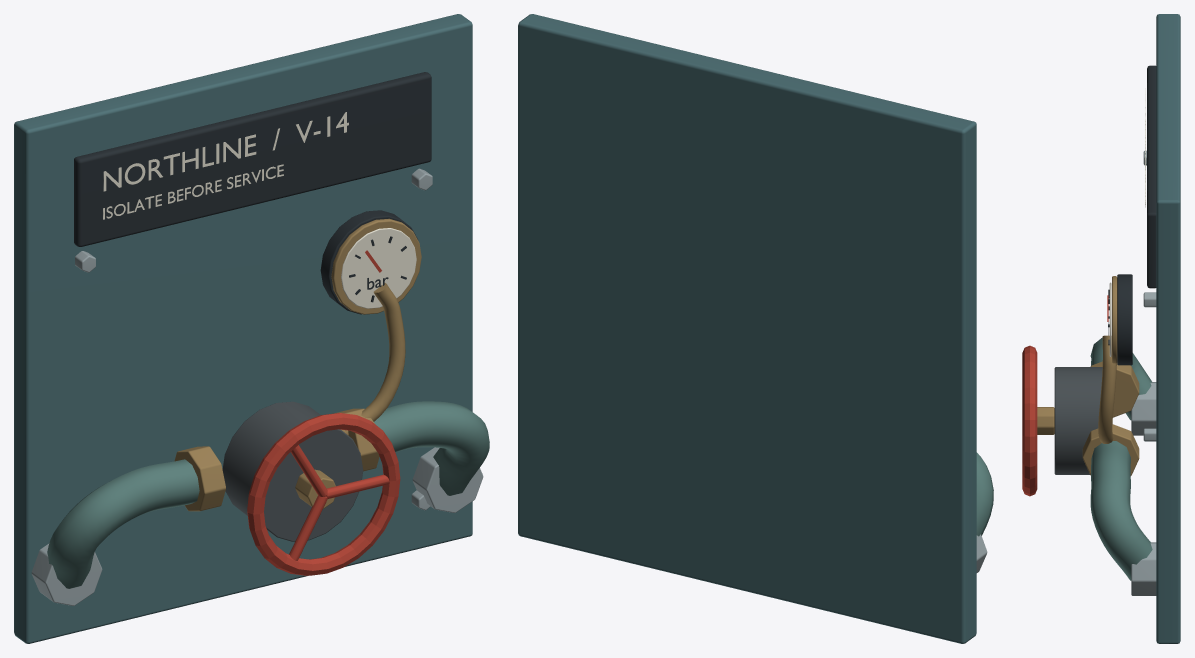
File: HF2_IsolationManifold.fbx
3 renders of one model, left to right at view 1: azimuth 30°, elevation 25°; view 2: azimuth 150°, elevation 25°; view 3: azimuth 270°, elevation 25°, orthographic. The views are drawn at different scales.
Parts seen in each view (by area): view 1: HF2_IsolationManifold; view 2: HF2_IsolationManifold; view 3: HF2_IsolationManifold.
Part boxes in pixels (x1,y1,x2,y2): HF2_IsolationManifold: [14, 14, 489, 643]; HF2_IsolationManifold: [518, 14, 993, 643]; HF2_IsolationManifold: [1022, 14, 1180, 643].
Size of the model in its own units: 101 by 111 by 35.85.
